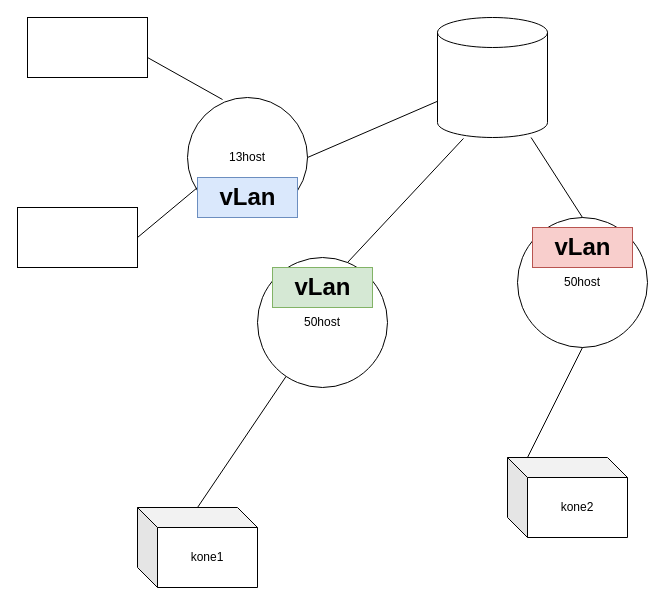
Some shapes in this 665 by 605 pixel diagram are drawn without their labels. Here are the shapes that lost their labels. From the top down, the centre of each, then its label:
the point at 87,47: switch1
the point at 492,77: router
the point at 77,237: switch2
